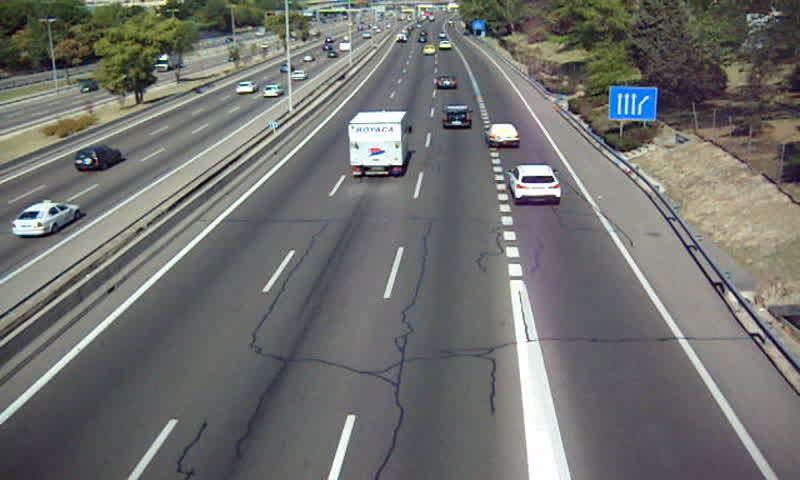car: (509, 164, 562, 204), (484, 122, 520, 147), (442, 106, 474, 127), (435, 74, 456, 89), (422, 43, 436, 55), (438, 38, 452, 48)
small-truck: (347, 111, 410, 177)
